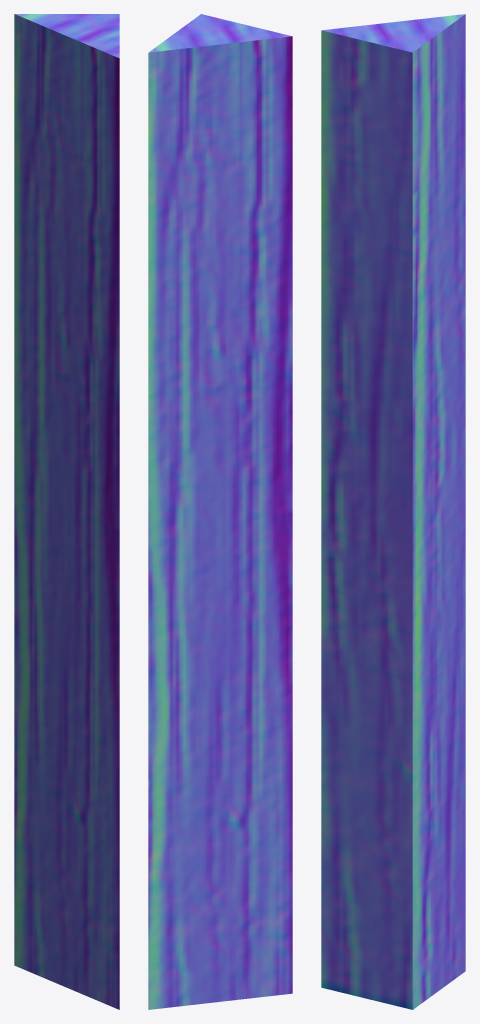
Rendered from HsWallCorBtmB01.fbx.
3 views of the same model, side by side, from view 1: azimuth 90°, elevation 25°; view 2: azimuth 150°, elevation 25°; view 3: azimuth 330°, elevation 25° (orthographic).
Visible parts, largest first — view 1: HsWallCorBtmB01; view 2: HsWallCorBtmB01; view 3: HsWallCorBtmB01.
Part boxes in pixels (x1,y1,x2,y2): HsWallCorBtmB01: (14, 14, 119, 1009); HsWallCorBtmB01: (148, 14, 292, 1009); HsWallCorBtmB01: (321, 14, 465, 1009).
Size of the model in its own units: 10 by 100 by 10.
